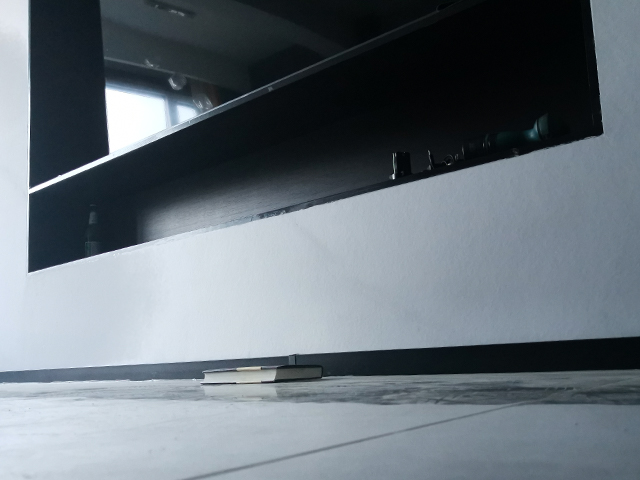book: (198, 363, 326, 387)
